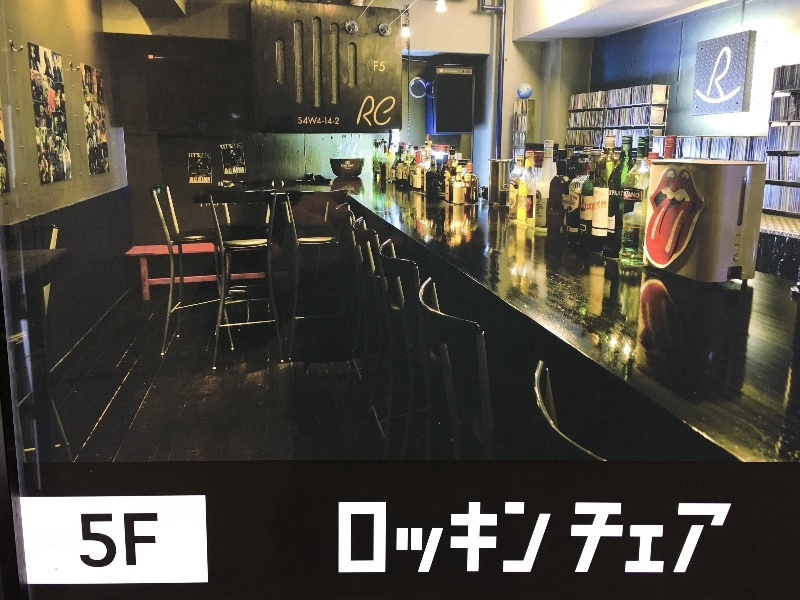text: (577, 501, 592, 576), (593, 501, 608, 576), (609, 501, 624, 576), (625, 501, 640, 576), (641, 501, 656, 576), (657, 501, 672, 576), (673, 501, 688, 576), (689, 501, 704, 576), (705, 501, 720, 576), (337, 501, 352, 575), (353, 501, 368, 575), (369, 501, 384, 575), (385, 501, 400, 575), (401, 501, 416, 575), (417, 501, 432, 575), (433, 501, 448, 575), (449, 501, 464, 575), (465, 501, 480, 575), (481, 501, 496, 575), (497, 501, 512, 575), (513, 501, 528, 575), (529, 501, 544, 575), (721, 501, 734, 576), (545, 501, 557, 575), (721, 44, 736, 99), (81, 513, 96, 568), (97, 513, 112, 568), (113, 513, 128, 568), (129, 513, 144, 568), (145, 513, 158, 568), (369, 95, 384, 128), (570, 501, 576, 576), (385, 95, 398, 128), (713, 44, 720, 99), (737, 44, 741, 99), (593, 201, 608, 212), (225, 167, 240, 175), (305, 117, 320, 125), (321, 117, 336, 125), (562, 197, 576, 205), (626, 191, 640, 199), (374, 61, 384, 72), (404, 168, 416, 177), (193, 177, 208, 184), (225, 143, 240, 150), (609, 189, 624, 196), (193, 153, 208, 159), (548, 209, 560, 216), (612, 190, 624, 197), (366, 95, 368, 128), (581, 203, 592, 209), (341, 163, 352, 168), (79, 513, 80, 568), (298, 117, 304, 125), (439, 181, 448, 186), (535, 209, 544, 214), (583, 204, 592, 209), (569, 201, 576, 207), (536, 205, 544, 210), (571, 194, 576, 202), (241, 167, 245, 175), (220, 143, 224, 150), (337, 117, 340, 125), (241, 143, 244, 150), (189, 153, 192, 159), (209, 153, 212, 159), (513, 181, 516, 187), (577, 194, 579, 202), (190, 177, 192, 184), (209, 177, 211, 184), (510, 181, 512, 187), (385, 61, 386, 72), (590, 205, 592, 210), (509, 190, 512, 193), (513, 190, 516, 193), (353, 163, 354, 168)
